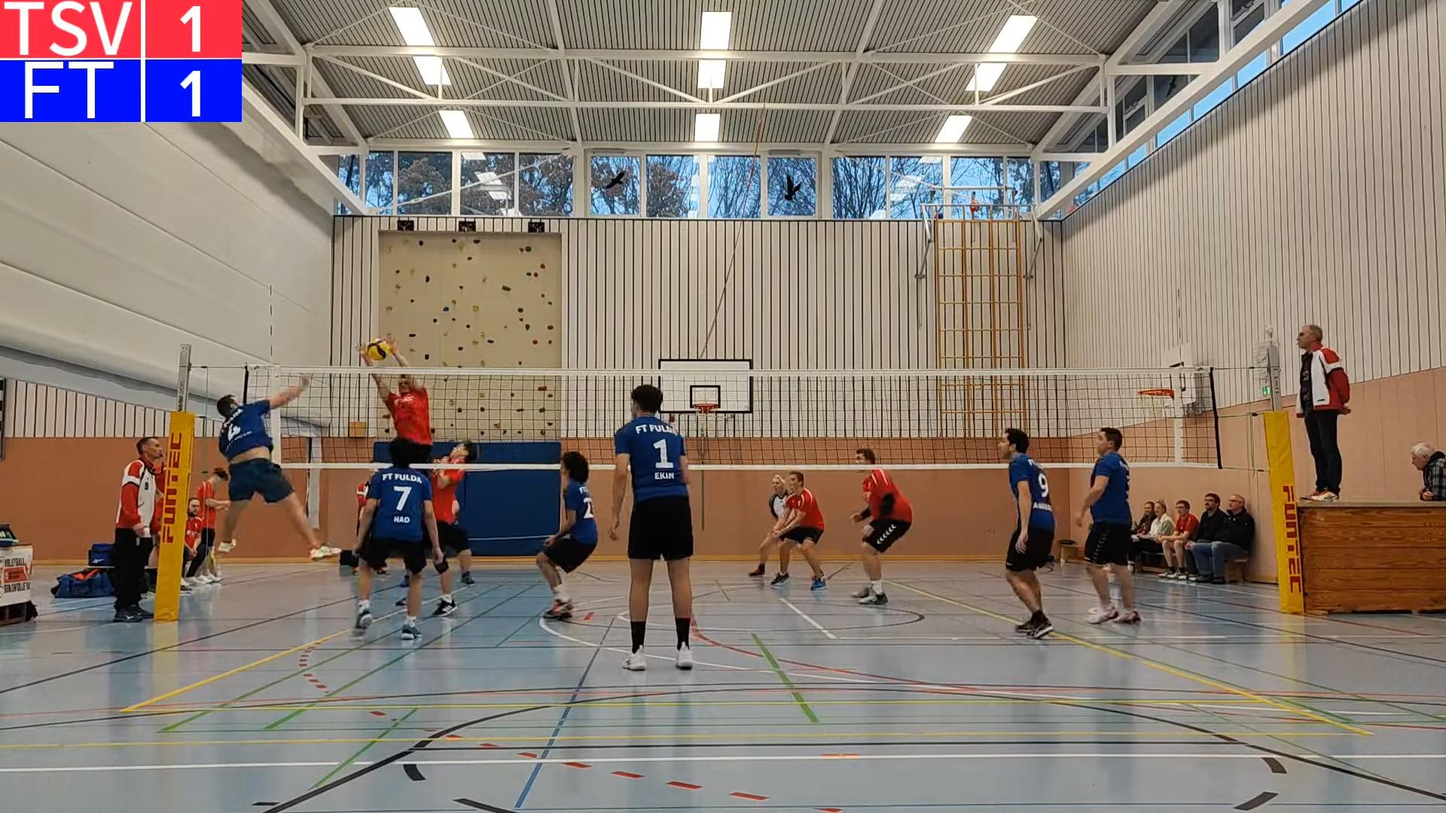attacco: (206, 370, 327, 561)
muro: (358, 335, 437, 491)
